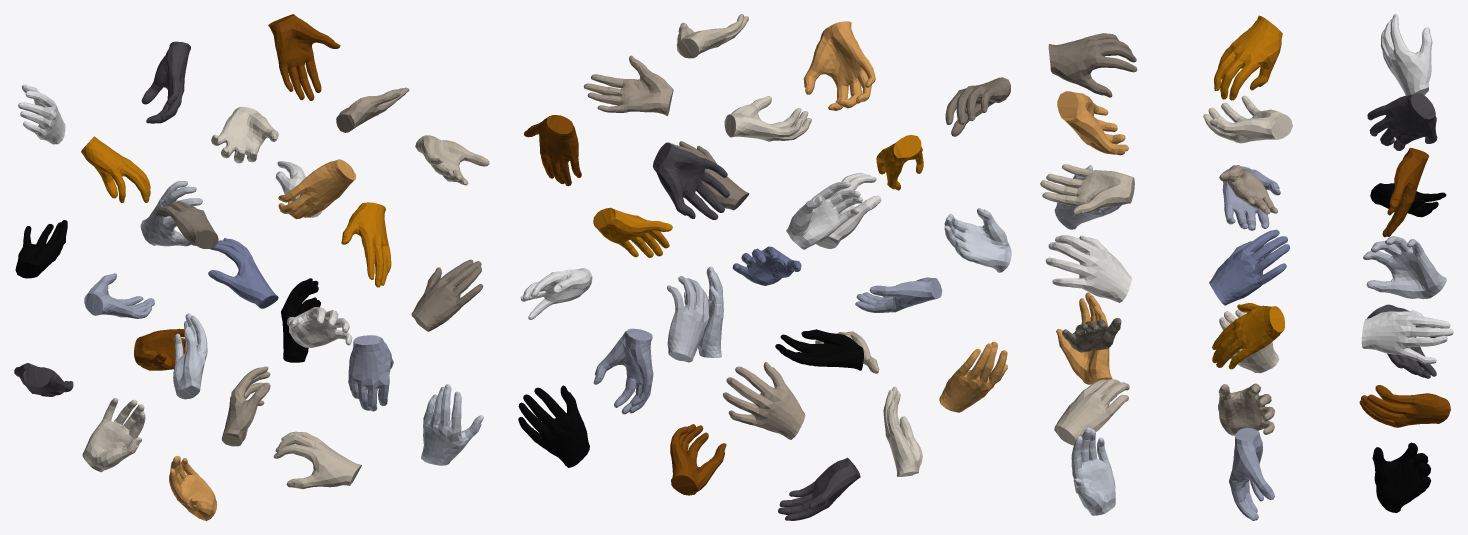
The picture shows the model from 3 angles, left to right: view 1: azimuth 30°, elevation 25°; view 2: azimuth 150°, elevation 25°; view 3: azimuth 270°, elevation 25°; orthographic projection. The views are drawn at different scales.
Visible parts, largest first — view 1: hand_24, hand_20, hand_1, hand_23, hand_19, hand_11, hand_17, hand_22, hand_16, hand_13, hand_5, hand_7 (+15 smaller); view 2: hand_17, hand_15, hand_10, hand_18, hand_25, hand_6, hand_19, hand_5, hand_2, hand_12, hand_9, hand_24 (+14 smaller); view 3: hand_14, hand_7, hand_13, hand_21, hand_12, hand_8, hand_26, hand_22, hand_20, hand_18, hand_15, hand_11 (+15 smaller).
Boxes of the visible parts, box(x1,y1,x2,y2) form: hand_24: box(268, 14, 340, 100); hand_20: box(421, 384, 483, 465); hand_1: box(82, 397, 145, 472); hand_23: box(411, 259, 483, 331); hand_19: box(348, 335, 393, 411); hand_11: box(273, 431, 361, 488); hand_17: box(278, 159, 356, 219); hand_22: box(341, 202, 391, 287); hand_16: box(211, 106, 278, 163); hand_13: box(208, 238, 278, 308); hand_5: box(173, 313, 207, 399); hand_7: box(81, 136, 150, 202); hand_17: box(803, 21, 875, 110); hand_15: box(652, 142, 729, 219); hand_10: box(723, 362, 805, 439); hand_18: box(518, 385, 589, 467); hand_25: box(583, 55, 673, 116); hand_6: box(786, 181, 862, 249); hand_19: box(593, 328, 653, 414); hand_5: box(944, 208, 1011, 272); hand_2: box(939, 341, 1007, 412); hand_12: box(667, 276, 709, 362); hand_9: box(670, 424, 726, 495); hand_24: box(524, 115, 581, 186); hand_14: box(1045, 235, 1131, 302); hand_7: box(1214, 15, 1282, 100); hand_13: box(1209, 229, 1289, 305); hand_21: box(1361, 310, 1453, 363); hand_12: box(1363, 236, 1446, 299); hand_8: box(1048, 33, 1137, 97); hand_26: box(1040, 164, 1134, 215); hand_22: box(1212, 303, 1284, 369); hand_20: box(1071, 427, 1115, 515); hand_18: box(1372, 442, 1430, 512); hand_15: box(1367, 93, 1437, 150); hand_11: box(1054, 379, 1129, 445).
Bounding box in the file's own units: 90.13 × 89.98 × 92.48.
